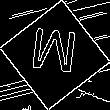M_S: (29, 27, 81, 83)
